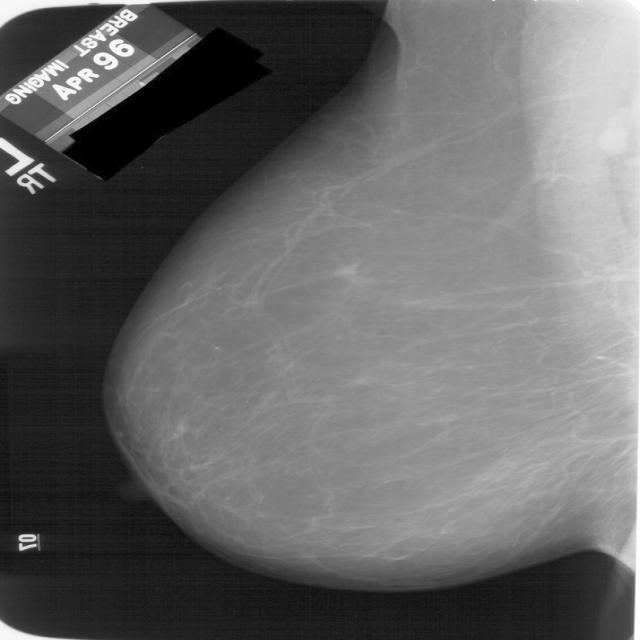tumour: (331, 261, 373, 285)
